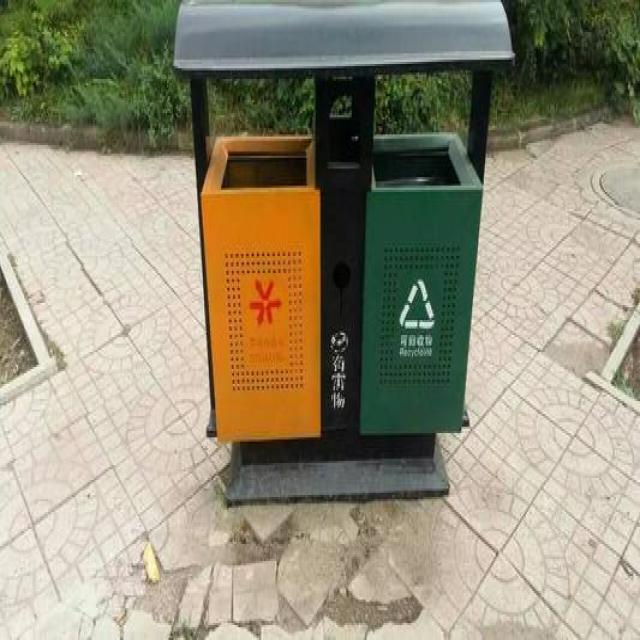garbage_bin: (170, 0, 514, 506)
